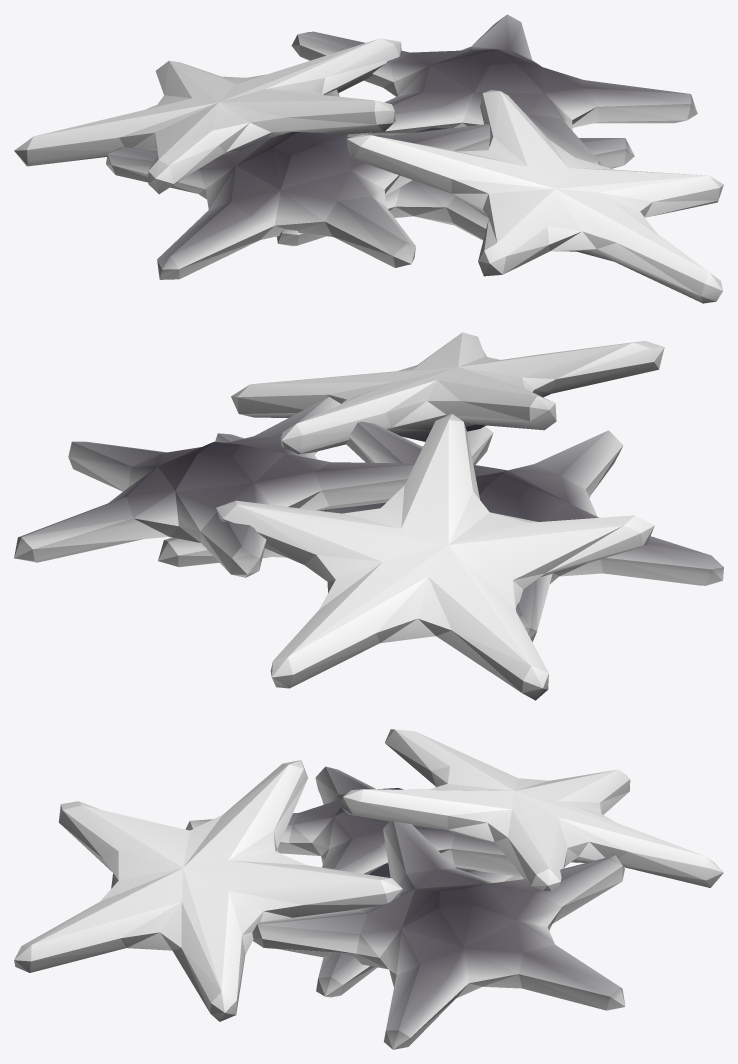
Rendered from SM_Starfish_7.fbx.
3 renders of one model, top to bottom at view 1: azimuth 30°, elevation 25°; view 2: azimuth 150°, elevation 25°; view 3: azimuth 270°, elevation 25°, orthographic. The views are drawn at different scales.
Visible parts, largest first — view 1: Starfish_7; view 2: Starfish_7; view 3: Starfish_7.
Part boxes in pixels (x1=…): Starfish_7: x1=14, y1=14, x2=723, y2=303; Starfish_7: x1=14, y1=332, x2=723, y2=700; Starfish_7: x1=14, y1=729, x2=723, y2=1049.
Bounding box in the file's own units: 39.74 × 7.83 × 44.41.
